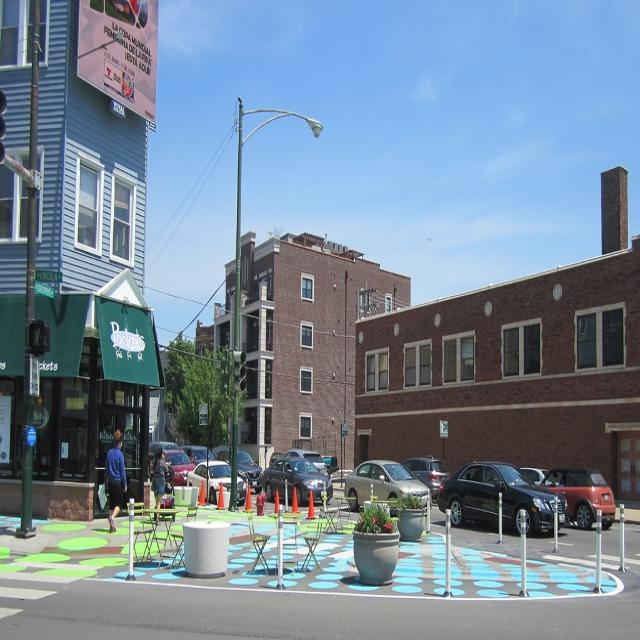car: (429, 465, 584, 543)
